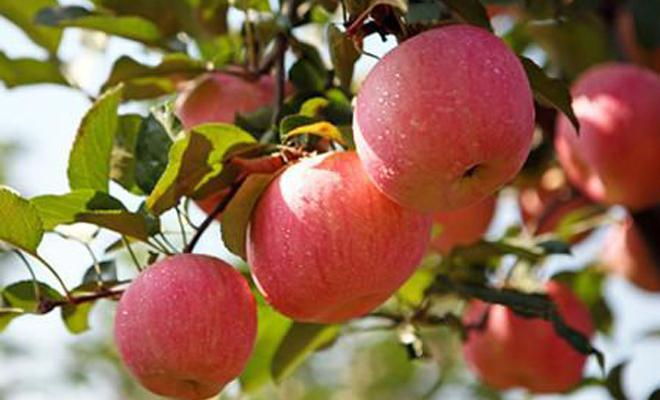apple: (347, 27, 531, 217), (243, 150, 428, 323), (115, 252, 257, 393), (557, 61, 659, 209)
